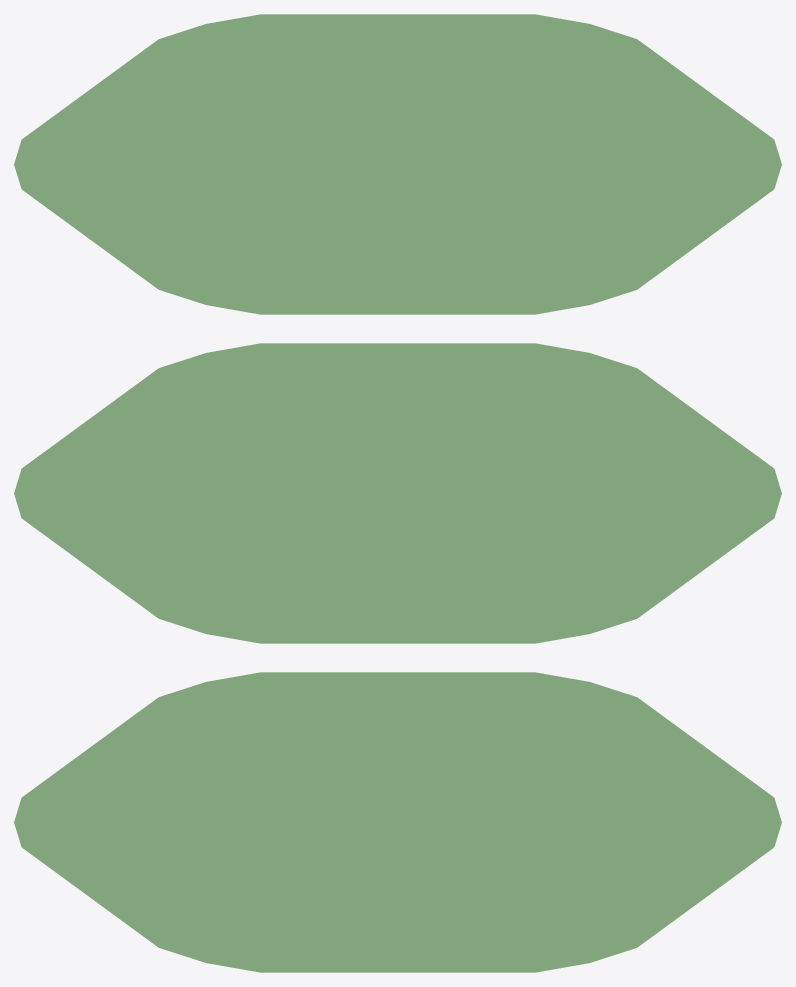
3 renders of one model, top to bottom at view 1: azimuth 30°, elevation 25°; view 2: azimuth 150°, elevation 25°; view 3: azimuth 270°, elevation 25°, orthographic.
Visible parts, largest first — view 1: Plane.0.; view 2: Plane.0.; view 3: Plane.0..
Boxes of the visible parts, x1=… form: Plane.0.: x1=14, y1=14, x2=781, y2=314; Plane.0.: x1=14, y1=343, x2=781, y2=643; Plane.0.: x1=14, y1=672, x2=781, y2=972.
Bounding box in the file's own units: 1.22 × 1.31 × 0.
